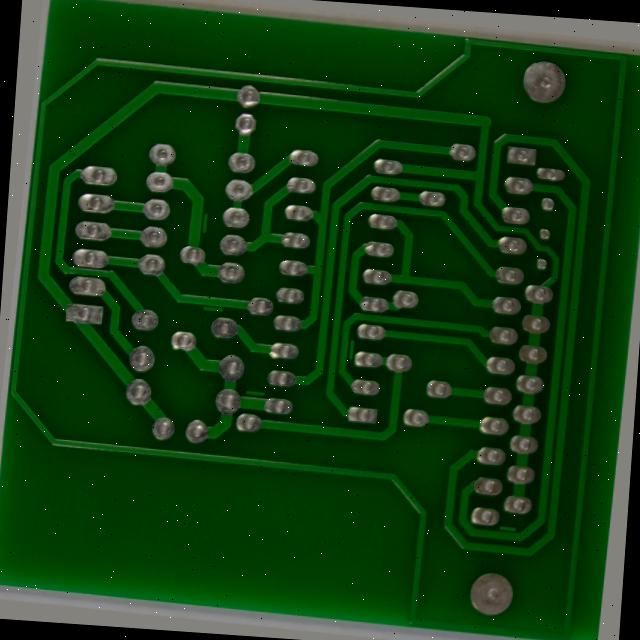spurious_copper: (188, 206, 205, 242), (193, 302, 222, 318), (508, 519, 535, 536), (345, 334, 360, 364), (242, 388, 270, 404)
